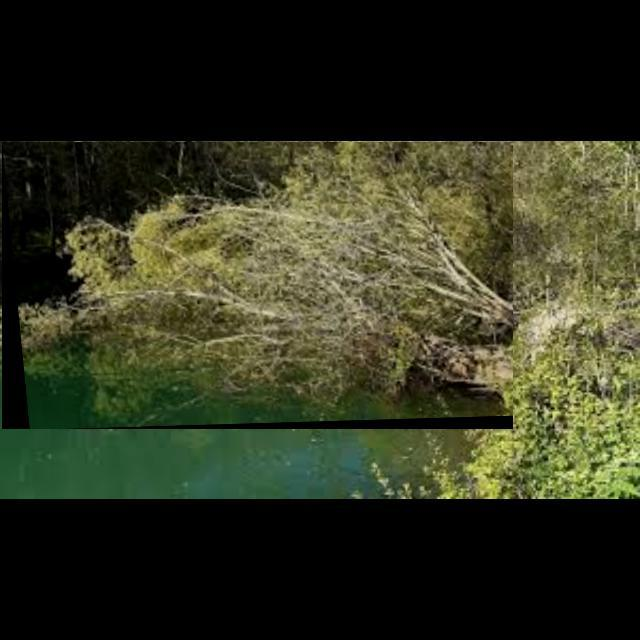fallen_tree: (2, 142, 514, 430)
